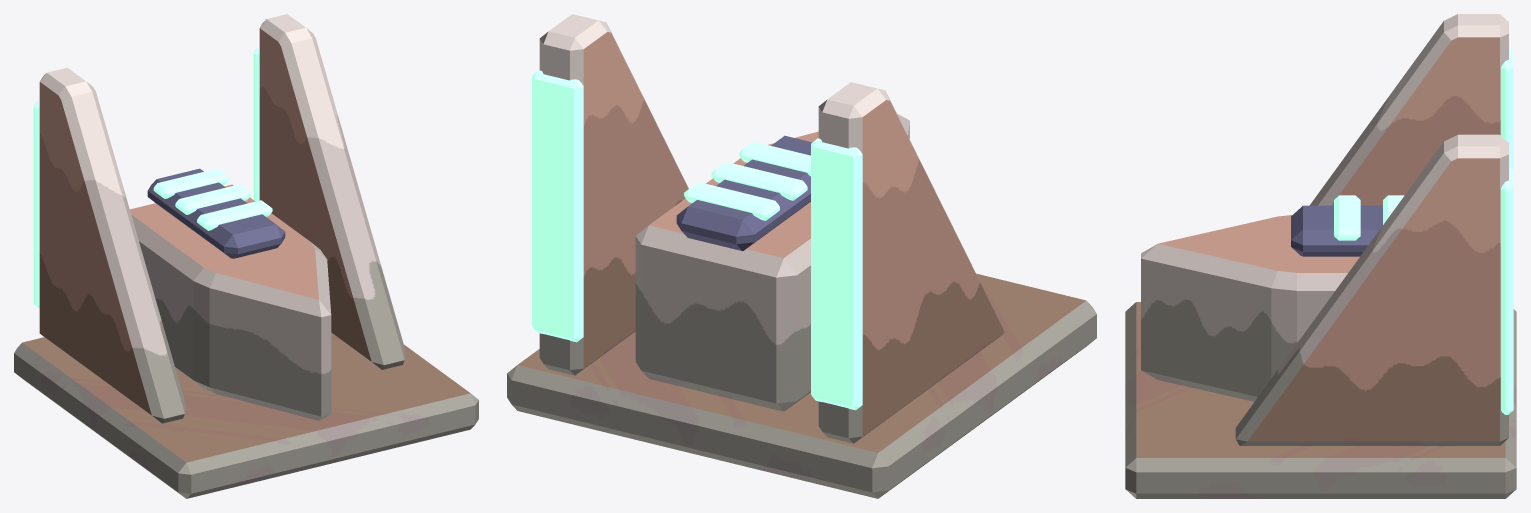
The model's file is R4X_MobilityBooster_LOD1.glb.
3 views of the same model, side by side, from view 1: azimuth 30°, elevation 25°; view 2: azimuth 150°, elevation 25°; view 3: azimuth 270°, elevation 25° (orthographic). The views are drawn at different scales.
Visible parts, largest first — view 1: R4X_MobilityBooster_LOD1; view 2: R4X_MobilityBooster_LOD1; view 3: R4X_MobilityBooster_LOD1.
Boxes of the visible parts, <box> form: R4X_MobilityBooster_LOD1: <box>14,14,478,498</box>; R4X_MobilityBooster_LOD1: <box>507,14,1096,498</box>; R4X_MobilityBooster_LOD1: <box>1125,14,1516,498</box>.
Size of the model in its own units: 0.52 by 0.5 by 0.52.
Materials: 4 (3 with a texture image).
